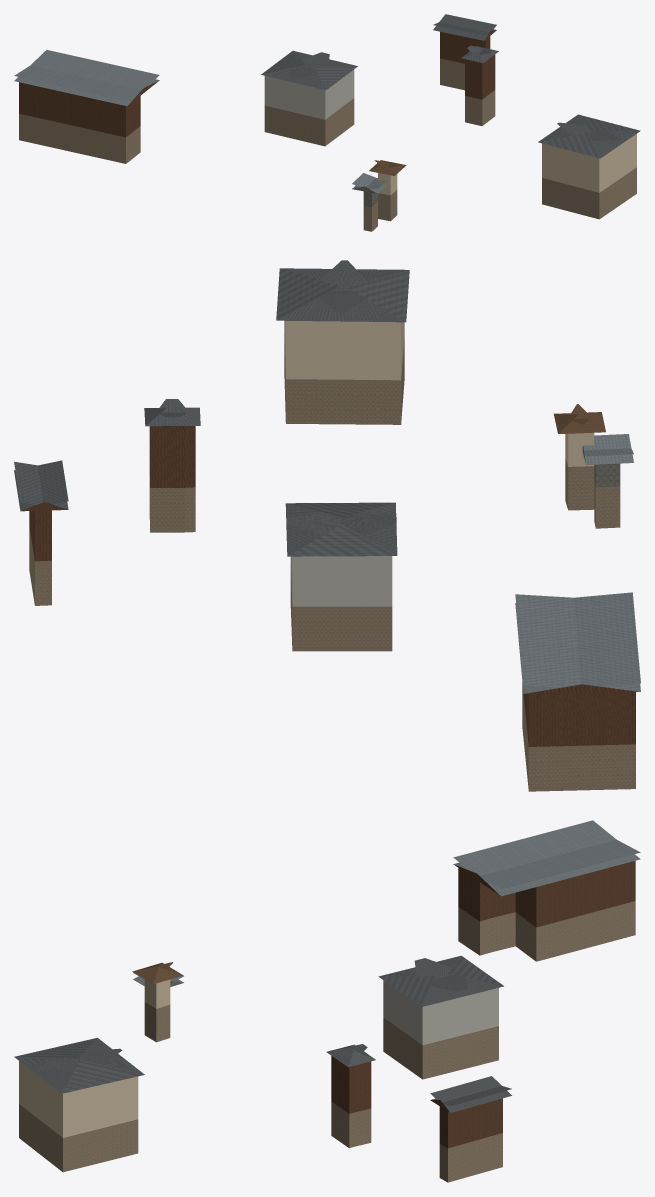
The model's file is bld_c42_47_189.gltf.
3 views of the same model, one above another, from view 1: azimuth 30°, elevation 25°; view 2: azimuth 150°, elevation 25°; view 3: azimuth 270°, elevation 25° (orthographic). The views are drawn at different scales.
Visible parts, largest first — view 1: bld_c42_47_189; view 2: bld_c42_47_189; view 3: bld_c42_47_189.
Boxes of the visible parts, x1,y1,x2,y2 form: bld_c42_47_189: (14,14,640,231); bld_c42_47_189: (14,260,640,791); bld_c42_47_189: (14,820,640,1182).
Bounding box in the file's own units: 86.03 × 15.4 × 84.63.
Materials: 10 (10 with a texture image).
